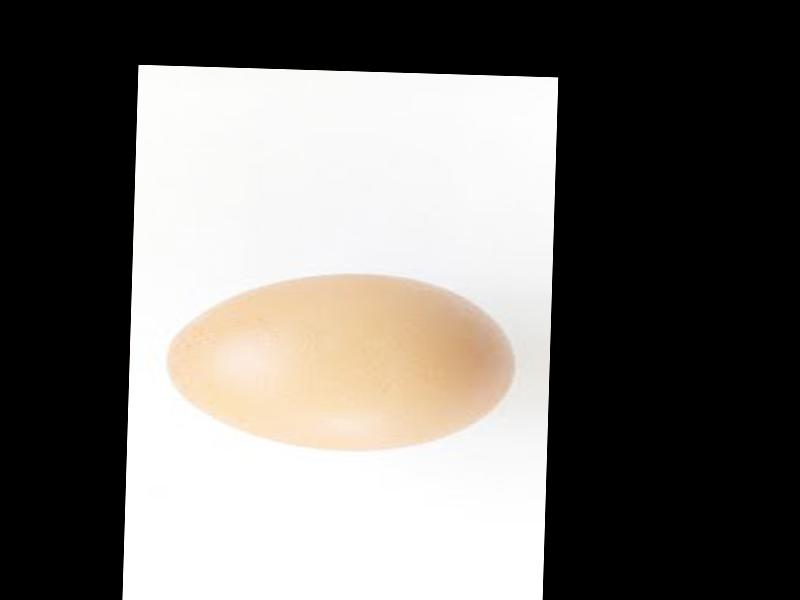Eggs: (164, 268, 515, 454)
